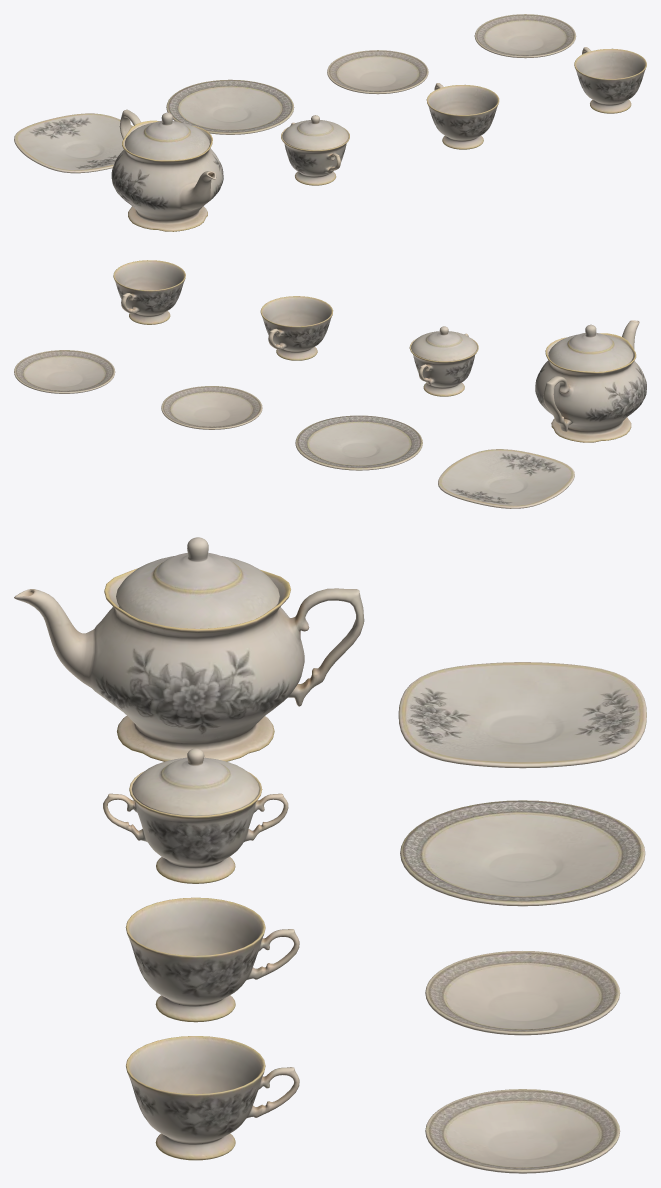
File: tea_set_01.glb
The picture shows the model from 3 angles, top to bottom: view 1: azimuth 30°, elevation 25°; view 2: azimuth 150°, elevation 25°; view 3: azimuth 270°, elevation 25°; orthographic projection. The views are drawn at different scales.
Parts seen in each view (by area): view 1: tea_set_01_teapot_01, tea_set_01_plate_large_circular_03, tea_set_01_plate_large_square_01, tea_set_01_cup_small_01, tea_set_01_cup_small_02, tea_set_01_saucer_circular_03, tea_set_01_saucer_circular_04, tea_set_01_teapot_01_lid, tea_set_01_sugar_cup_01, tea_set_01_sugar_cup_01_lid; view 2: tea_set_01_teapot_01, tea_set_01_plate_large_square_01, tea_set_01_plate_large_circular_03, tea_set_01_cup_small_01, tea_set_01_cup_small_02, tea_set_01_saucer_circular_04, tea_set_01_saucer_circular_03, tea_set_01_teapot_01_lid, tea_set_01_sugar_cup_01, tea_set_01_sugar_cup_01_lid; view 3: tea_set_01_teapot_01, tea_set_01_plate_large_square_01, tea_set_01_plate_large_circular_03, tea_set_01_cup_small_01, tea_set_01_cup_small_02, tea_set_01_saucer_circular_03, tea_set_01_saucer_circular_04, tea_set_01_teapot_01_lid, tea_set_01_sugar_cup_01, tea_set_01_sugar_cup_01_lid.
Part boxes in pixels (box(x1,y1,x2,y2)): tea_set_01_teapot_01: box(111, 109, 223, 231); tea_set_01_plate_large_circular_03: box(166, 79, 294, 134); tea_set_01_plate_large_square_01: box(14, 113, 133, 173); tea_set_01_cup_small_01: box(426, 83, 499, 149); tea_set_01_cup_small_02: box(574, 47, 646, 113); tea_set_01_saucer_circular_03: box(474, 14, 576, 58); tea_set_01_saucer_circular_04: box(327, 50, 428, 94); tea_set_01_teapot_01_lid: box(125, 112, 209, 160); tea_set_01_sugar_cup_01: box(281, 122, 349, 185); tea_set_01_sugar_cup_01_lid: box(282, 115, 348, 150); tea_set_01_teapot_01: box(535, 320, 646, 442); tea_set_01_plate_large_square_01: box(438, 449, 574, 508); tea_set_01_plate_large_circular_03: box(295, 415, 422, 470); tea_set_01_cup_small_01: box(260, 296, 333, 360); tea_set_01_cup_small_02: box(113, 260, 185, 324); tea_set_01_saucer_circular_04: box(161, 386, 262, 429); tea_set_01_saucer_circular_03: box(14, 350, 115, 393); tea_set_01_teapot_01_lid: box(548, 324, 633, 371); tea_set_01_sugar_cup_01: box(409, 333, 478, 396); tea_set_01_sugar_cup_01_lid: box(411, 326, 477, 361); tea_set_01_teapot_01: box(14, 568, 364, 761); tea_set_01_plate_large_square_01: box(398, 662, 646, 768); tea_set_01_plate_large_circular_03: box(400, 800, 645, 906); tea_set_01_cup_small_01: box(125, 897, 299, 1022); tea_set_01_cup_small_02: box(126, 1036, 299, 1160); tea_set_01_saucer_circular_03: box(425, 1089, 620, 1173); tea_set_01_saucer_circular_04: box(425, 951, 620, 1035); tea_set_01_teapot_01_lid: box(116, 537, 279, 628); tea_set_01_sugar_cup_01: box(103, 771, 288, 883); tea_set_01_sugar_cup_01_lid: box(131, 748, 259, 815).
Size of the model in its own units: 0.9185 by 0.165 by 0.4839.
Materials: 1 (1 with a texture image).
